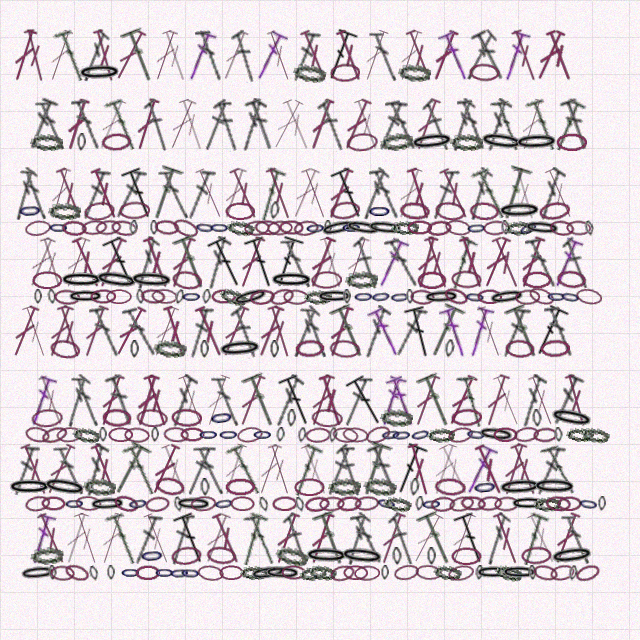chain: (548, 405, 595, 431), (93, 268, 140, 292), (41, 475, 88, 499), (478, 130, 525, 153), (409, 130, 455, 153), (549, 544, 595, 567), (339, 545, 385, 567), (217, 338, 263, 359), (231, 285, 270, 309), (497, 477, 543, 497), (514, 132, 559, 152), (129, 270, 174, 290), (274, 544, 310, 568), (319, 217, 358, 239), (77, 63, 122, 82), (497, 201, 542, 220), (532, 477, 577, 496), (304, 546, 349, 565), (59, 271, 104, 289), (269, 271, 314, 289), (7, 478, 52, 496), (379, 130, 414, 153), (292, 62, 327, 84), (344, 218, 382, 238), (488, 287, 526, 307), (249, 563, 287, 583), (154, 475, 186, 498), (83, 200, 116, 222), (538, 200, 571, 222), (477, 425, 515, 444), (363, 476, 397, 497), (30, 545, 64, 566), (434, 200, 466, 222), (171, 269, 203, 291), (49, 338, 81, 360), (171, 216, 200, 240), (170, 545, 203, 566), (366, 219, 404, 237), (523, 219, 561, 237), (19, 564, 57, 582), (218, 286, 249, 308), (329, 200, 361, 221), (527, 285, 556, 308), (556, 269, 587, 290), (206, 545, 237, 566), (153, 339, 187, 358), (442, 285, 470, 308), (364, 423, 392, 446), (346, 132, 378, 152), (329, 339, 361, 359), (31, 408, 63, 428), (136, 408, 168, 428), (311, 408, 343, 428), (434, 477, 466, 497), (40, 424, 69, 446), (398, 63, 431, 82), (345, 270, 378, 289), (380, 408, 413, 427), (83, 477, 116, 496), (328, 477, 361, 496), (101, 132, 132, 152), (399, 201, 430, 221), (469, 201, 500, 221), (63, 562, 91, 584), (574, 562, 602, 584), (298, 563, 328, 583), (494, 563, 524, 583), (30, 133, 63, 151), (450, 133, 483, 151), (48, 202, 81, 220), (423, 289, 460, 305), (89, 496, 126, 512), (175, 496, 212, 512), (264, 565, 301, 581), (469, 63, 500, 82), (119, 201, 150, 220), (451, 270, 482, 289), (171, 408, 202, 427), (451, 408, 482, 427), (521, 546, 552, 565), (268, 286, 296, 307), (112, 493, 140, 514), (330, 63, 360, 82), (295, 339, 325, 358), (505, 339, 535, 358), (540, 339, 570, 358), (102, 408, 132, 427), (208, 407, 235, 428), (447, 563, 475, 583), (556, 133, 587, 151), (311, 271, 342, 289), (294, 478, 325, 496), (451, 547, 482, 565), (67, 289, 104, 304), (316, 289, 353, 304), (510, 496, 547, 511), (475, 565, 512, 580), (501, 565, 538, 580), (516, 217, 541, 239), (225, 202, 255, 220), (32, 271, 62, 289), (417, 271, 447, 289), (522, 271, 552, 289), (447, 425, 474, 445), (225, 478, 255, 496), (448, 494, 475, 514), (329, 563, 356, 583), (532, 563, 559, 583), (444, 218, 472, 237), (575, 287, 603, 306), (236, 425, 264, 444), (226, 219, 255, 237), (72, 426, 101, 444), (581, 426, 610, 444), (383, 495, 412, 513), (472, 477, 498, 497), (24, 425, 51, 444), (513, 425, 540, 444), (24, 494, 51, 513), (393, 563, 420, 582), (549, 563, 576, 582), (24, 219, 52, 237), (110, 219, 138, 237), (17, 201, 43, 220), (139, 546, 165, 565), (308, 564, 337, 581), (433, 564, 462, 581), (332, 426, 359, 444), (342, 426, 369, 444), (144, 495, 171, 513), (197, 564, 224, 582), (293, 219, 319, 237), (426, 219, 452, 237), (549, 219, 575, 237), (249, 288, 275, 306), (304, 495, 330, 513), (81, 219, 108, 236), (95, 219, 122, 236), (254, 219, 281, 236), (151, 288, 178, 305), (56, 426, 83, 443), (75, 495, 102, 512), (190, 495, 217, 512), (415, 564, 442, 581), (367, 202, 392, 220), (505, 220, 533, 236), (304, 289, 332, 305), (427, 427, 455, 443), (533, 496, 561, 512), (154, 219, 180, 236), (140, 288, 166, 305), (163, 426, 189, 443), (336, 495, 362, 512), (354, 495, 380, 512), (460, 495, 486, 512), (477, 495, 503, 512), (545, 495, 571, 512), (409, 425, 432, 444), (375, 494, 398, 513), (391, 220, 419, 235), (566, 427, 594, 442), (240, 565, 268, 580), (61, 220, 87, 236), (244, 220, 270, 236), (267, 220, 293, 236), (54, 289, 80, 305), (283, 289, 309, 305), (124, 427, 150, 443), (305, 427, 331, 443), (319, 496, 345, 512), (430, 496, 456, 512), (354, 565, 380, 581), (559, 288, 582, 306), (577, 495, 600, 513), (483, 220, 508, 236), (566, 220, 591, 236), (410, 289, 435, 305), (515, 289, 540, 305), (533, 427, 558, 443), (494, 496, 519, 512), (50, 565, 75, 581), (90, 289, 116, 304), (106, 289, 132, 304), (279, 220, 304, 235), (407, 220, 432, 235), (211, 289, 236, 304), (477, 289, 502, 304), (108, 427, 133, 442), (180, 427, 205, 442), (493, 427, 518, 442), (41, 496, 66, 511), (230, 496, 255, 511), (272, 496, 297, 511), (557, 496, 582, 511), (135, 565, 160, 580), (219, 565, 244, 580), (281, 565, 306, 580), (343, 565, 368, 580), (194, 219, 216, 236), (370, 288, 392, 305), (380, 426, 402, 443), (465, 426, 487, 443), (127, 495, 149, 512), (213, 495, 235, 512), (389, 289, 411, 305), (464, 289, 486, 305), (305, 220, 326, 236), (466, 220, 487, 236), (391, 427, 412, 443), (421, 496, 442, 512), (169, 565, 190, 581), (180, 565, 201, 581), (48, 220, 69, 235), (209, 220, 230, 235), (341, 220, 362, 235), (181, 289, 202, 304), (353, 289, 374, 304), (546, 289, 567, 304), (198, 427, 219, 442), (218, 427, 239, 442), (252, 427, 273, 442), (64, 496, 85, 511), (120, 565, 141, 580), (154, 565, 175, 580), (269, 201, 280, 220), (444, 339, 455, 358), (409, 478, 420, 496), (258, 496, 270, 512), (294, 496, 306, 512), (88, 565, 100, 581), (532, 409, 542, 427), (200, 478, 210, 496), (392, 547, 402, 565), (584, 220, 595, 236), (174, 289, 185, 305), (173, 496, 184, 512), (77, 133, 86, 151), (130, 340, 139, 358), (200, 340, 209, 358), (270, 340, 279, 358), (287, 409, 296, 427), (427, 547, 436, 565), (297, 427, 307, 443), (328, 427, 338, 443), (568, 565, 578, 581), (47, 289, 57, 304), (129, 220, 138, 235), (501, 220, 510, 235), (136, 289, 145, 304), (202, 289, 211, 304), (276, 427, 285, 442), (554, 427, 563, 442), (415, 496, 424, 511), (48, 565, 57, 580), (475, 565, 484, 580), (528, 565, 537, 580), (150, 220, 158, 235), (324, 220, 332, 235), (34, 289, 42, 304), (343, 289, 351, 304), (406, 289, 414, 304), (99, 427, 107, 442), (151, 427, 159, 442), (598, 496, 606, 511), (107, 565, 115, 580), (381, 565, 389, 580)
double: (344, 373, 389, 429), (108, 441, 152, 498), (206, 234, 248, 291), (329, 303, 371, 360), (424, 303, 466, 360), (416, 510, 458, 567), (329, 165, 370, 222), (101, 234, 142, 291), (504, 303, 545, 360), (529, 303, 570, 360), (241, 372, 282, 429), (416, 372, 457, 429), (224, 442, 265, 498), (120, 27, 160, 84), (172, 234, 212, 291), (277, 372, 317, 429), (547, 97, 587, 153), (120, 165, 159, 222), (390, 441, 429, 498), (172, 510, 211, 567), (312, 510, 351, 567), (452, 510, 491, 567), (110, 28, 150, 83), (470, 28, 510, 83), (267, 97, 307, 152), (110, 304, 150, 359), (540, 442, 580, 497), (407, 511, 447, 566), (470, 166, 509, 222), (321, 27, 359, 84), (146, 165, 184, 222), (435, 442, 474, 497), (121, 442, 159, 498), (286, 442, 324, 498), (496, 165, 533, 222), (243, 234, 280, 291), (356, 441, 393, 498), (251, 28, 289, 83), (531, 28, 569, 83), (436, 166, 474, 221), (68, 235, 106, 290), (366, 304, 404, 359), (443, 373, 481, 428), (41, 442, 79, 497), (146, 442, 184, 497), (461, 442, 499, 497), (33, 511, 71, 566), (523, 511, 561, 566), (103, 97, 140, 153), (243, 511, 280, 567), (269, 234, 305, 291), (296, 28, 333, 83), (93, 97, 130, 152), (163, 97, 200, 152), (338, 97, 375, 152), (191, 166, 228, 221), (226, 166, 263, 221), (541, 166, 578, 221), (23, 235, 60, 290), (93, 235, 130, 290), (373, 235, 410, 290), (478, 235, 515, 290), (488, 235, 525, 290), (191, 304, 228, 359), (548, 373, 585, 428), (366, 442, 403, 497), (471, 442, 508, 497), (208, 511, 245, 566), (52, 28, 88, 84), (524, 97, 560, 153), (104, 511, 140, 567), (514, 511, 550, 567), (461, 29, 499, 82), (402, 28, 438, 83), (437, 28, 473, 83), (279, 97, 315, 152), (52, 166, 88, 221), (87, 166, 123, 221), (287, 166, 323, 221), (7, 304, 43, 359), (147, 304, 183, 359), (217, 304, 253, 359), (252, 304, 288, 359), (489, 373, 525, 428), (17, 442, 53, 497), (87, 442, 123, 497), (157, 442, 193, 497), (297, 442, 333, 497), (139, 511, 175, 566), (199, 511, 235, 566), (252, 166, 287, 222), (234, 511, 269, 567), (384, 236, 420, 290), (122, 305, 158, 359), (269, 374, 305, 428), (217, 28, 252, 83), (332, 28, 367, 83), (427, 28, 462, 83), (542, 28, 577, 83), (24, 97, 59, 152), (244, 97, 279, 152), (559, 97, 594, 152), (262, 166, 297, 221), (297, 166, 332, 221), (322, 166, 357, 221), (392, 166, 427, 221), (59, 235, 94, 290), (139, 235, 174, 290), (234, 235, 269, 290), (304, 235, 339, 290), (549, 235, 584, 290), (34, 373, 69, 428), (104, 373, 139, 428), (174, 373, 209, 428), (234, 373, 269, 428), (409, 373, 444, 428), (524, 373, 559, 428), (507, 442, 542, 497), (489, 511, 524, 566), (549, 511, 584, 566), (392, 305, 428, 358), (490, 97, 524, 153), (445, 235, 479, 291), (403, 304, 437, 360), (43, 28, 77, 83), (148, 28, 182, 83), (158, 28, 192, 83), (183, 28, 217, 83), (358, 28, 392, 83), (508, 28, 542, 83), (175, 97, 209, 152), (350, 97, 384, 152), (410, 97, 444, 152), (165, 235, 199, 290), (420, 235, 454, 290), (515, 235, 549, 290), (18, 304, 52, 359), (43, 304, 77, 359), (78, 304, 112, 359), (323, 304, 357, 359), (473, 304, 507, 359), (200, 373, 234, 428), (305, 373, 339, 428), (385, 373, 419, 428), (270, 511, 304, 566), (375, 511, 409, 566), (445, 511, 479, 566), (112, 167, 147, 220), (420, 98, 454, 152), (158, 167, 192, 221), (533, 167, 567, 221), (280, 236, 314, 290), (288, 305, 322, 359), (358, 305, 392, 359), (165, 374, 199, 428), (53, 443, 87, 497), (193, 443, 227, 497), (350, 512, 384, 566), (8, 28, 41, 83), (263, 28, 296, 83), (393, 28, 426, 83), (305, 97, 338, 152), (515, 97, 548, 152), (218, 166, 251, 221), (403, 166, 436, 221), (340, 235, 373, 290), (455, 235, 488, 290), (53, 304, 86, 359), (438, 304, 471, 359), (25, 373, 58, 428), (95, 373, 128, 428), (140, 373, 173, 428), (315, 373, 348, 428), (480, 373, 513, 428), (218, 442, 251, 497), (253, 442, 286, 497), (263, 442, 296, 497), (428, 442, 461, 497), (498, 442, 531, 497), (60, 511, 93, 566), (70, 511, 103, 566), (95, 511, 128, 566), (305, 511, 338, 566), (78, 29, 111, 83), (35, 98, 68, 152), (235, 98, 268, 152), (375, 98, 408, 152), (385, 98, 418, 152), (480, 98, 513, 152), (358, 167, 391, 221), (525, 236, 558, 290), (560, 236, 593, 290), (515, 374, 548, 428), (533, 443, 566, 497), (499, 28, 531, 83), (61, 97, 93, 152), (131, 97, 163, 152), (509, 166, 541, 221), (36, 235, 68, 290), (316, 235, 348, 290), (159, 304, 191, 359), (264, 304, 296, 359), (131, 373, 163, 428), (456, 373, 487, 429), (289, 29, 321, 83), (316, 98, 348, 152), (79, 167, 111, 221), (184, 167, 216, 221), (369, 167, 401, 221), (89, 305, 121, 359), (229, 305, 261, 359), (499, 305, 531, 359), (341, 374, 373, 428), (184, 443, 216, 497), (131, 512, 163, 566), (386, 512, 418, 566), (561, 512, 593, 566), (89, 28, 120, 83), (71, 97, 102, 152), (411, 235, 442, 290), (464, 304, 495, 359), (544, 304, 575, 359), (376, 373, 407, 428), (561, 373, 592, 428), (404, 442, 435, 497), (26, 511, 57, 566), (369, 29, 400, 83), (201, 98, 232, 152), (429, 167, 460, 221), (201, 236, 232, 290), (351, 236, 382, 290), (71, 374, 102, 428), (211, 374, 242, 428), (79, 443, 110, 497), (324, 443, 355, 497), (334, 443, 365, 497), (281, 512, 312, 566), (20, 28, 50, 83), (457, 97, 487, 152), (45, 166, 75, 221), (142, 98, 172, 152), (212, 98, 242, 152), (447, 98, 477, 152), (20, 167, 50, 221), (300, 305, 330, 359), (62, 374, 92, 428), (10, 443, 40, 497), (342, 512, 372, 566), (482, 512, 512, 566), (195, 28, 224, 83), (230, 29, 259, 83), (10, 167, 39, 221), (465, 167, 494, 221), (132, 236, 161, 290), (186, 305, 214, 359), (168, 512, 195, 566)
